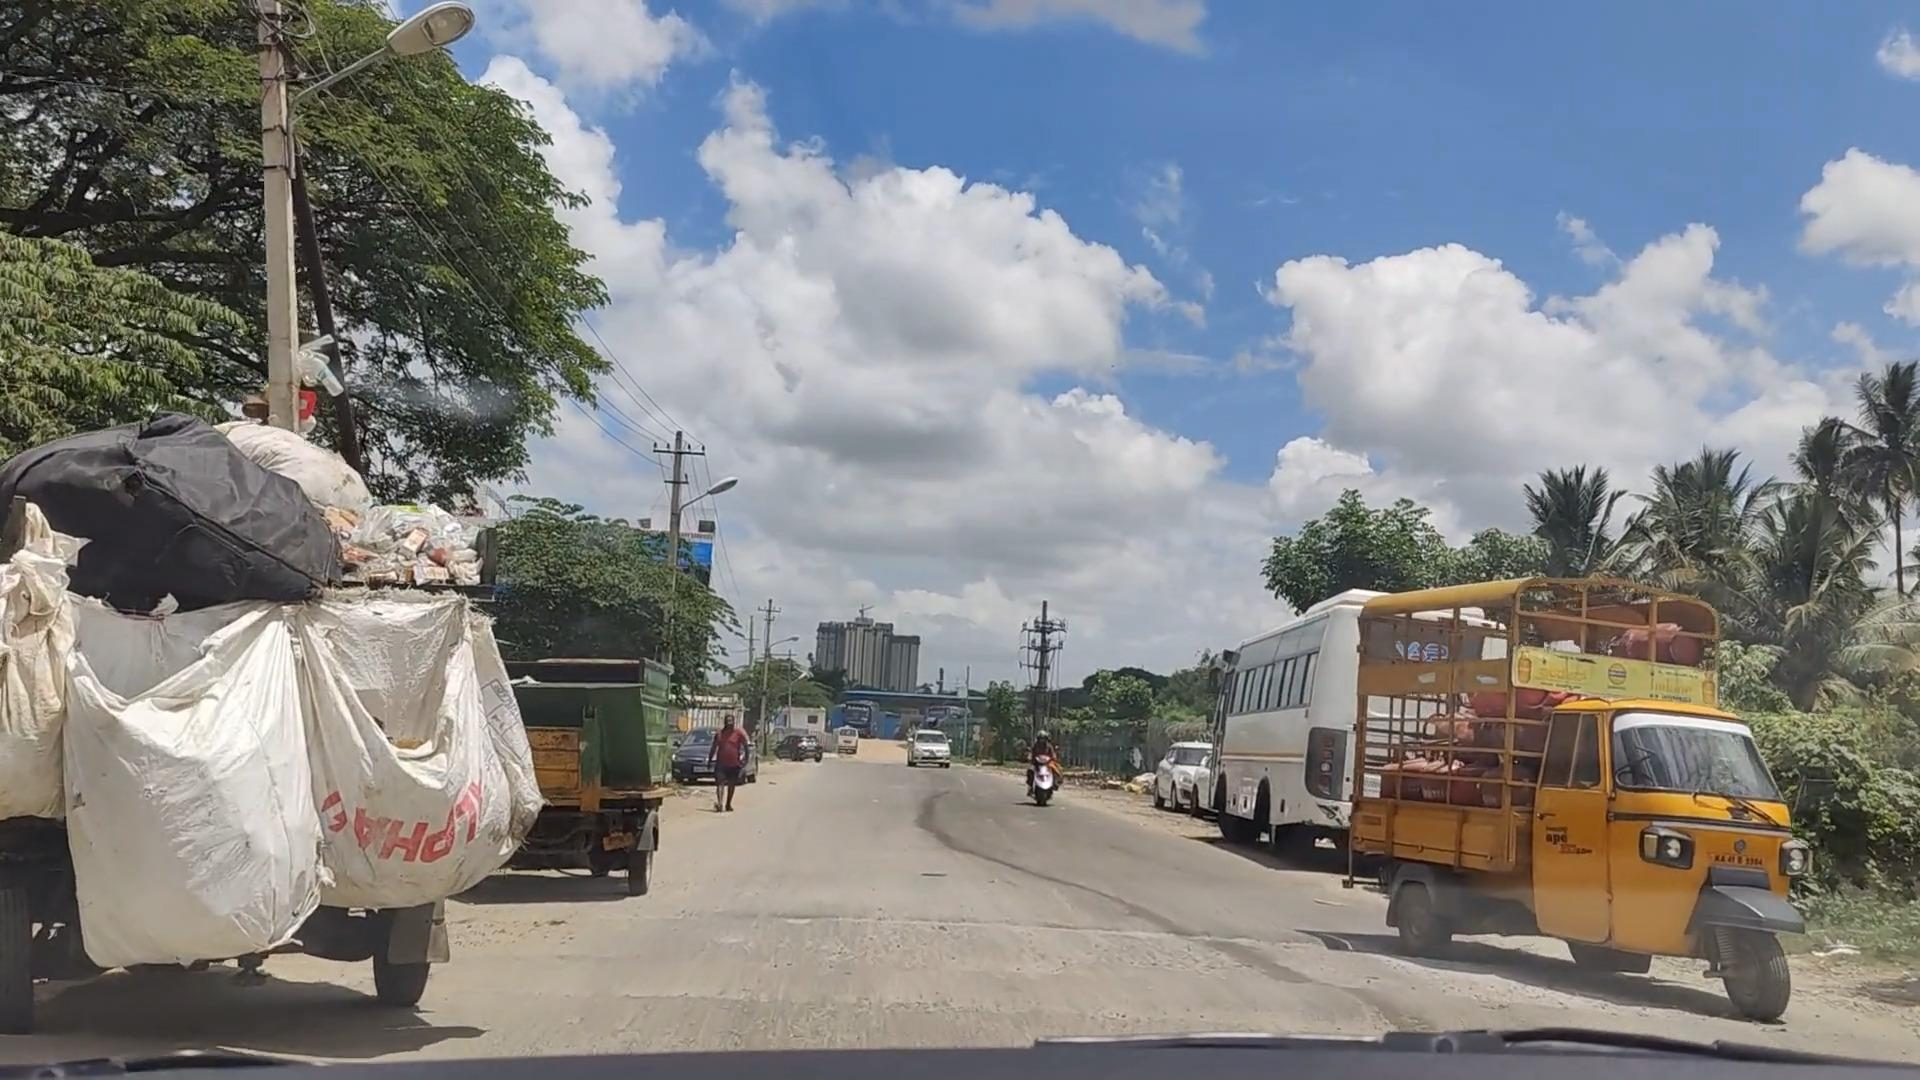HMV: (16, 438, 508, 1051), (1358, 603, 1859, 1048)
RoadDamages: (638, 965, 1290, 1042)
